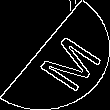M_NW: (16, 21, 94, 89)
